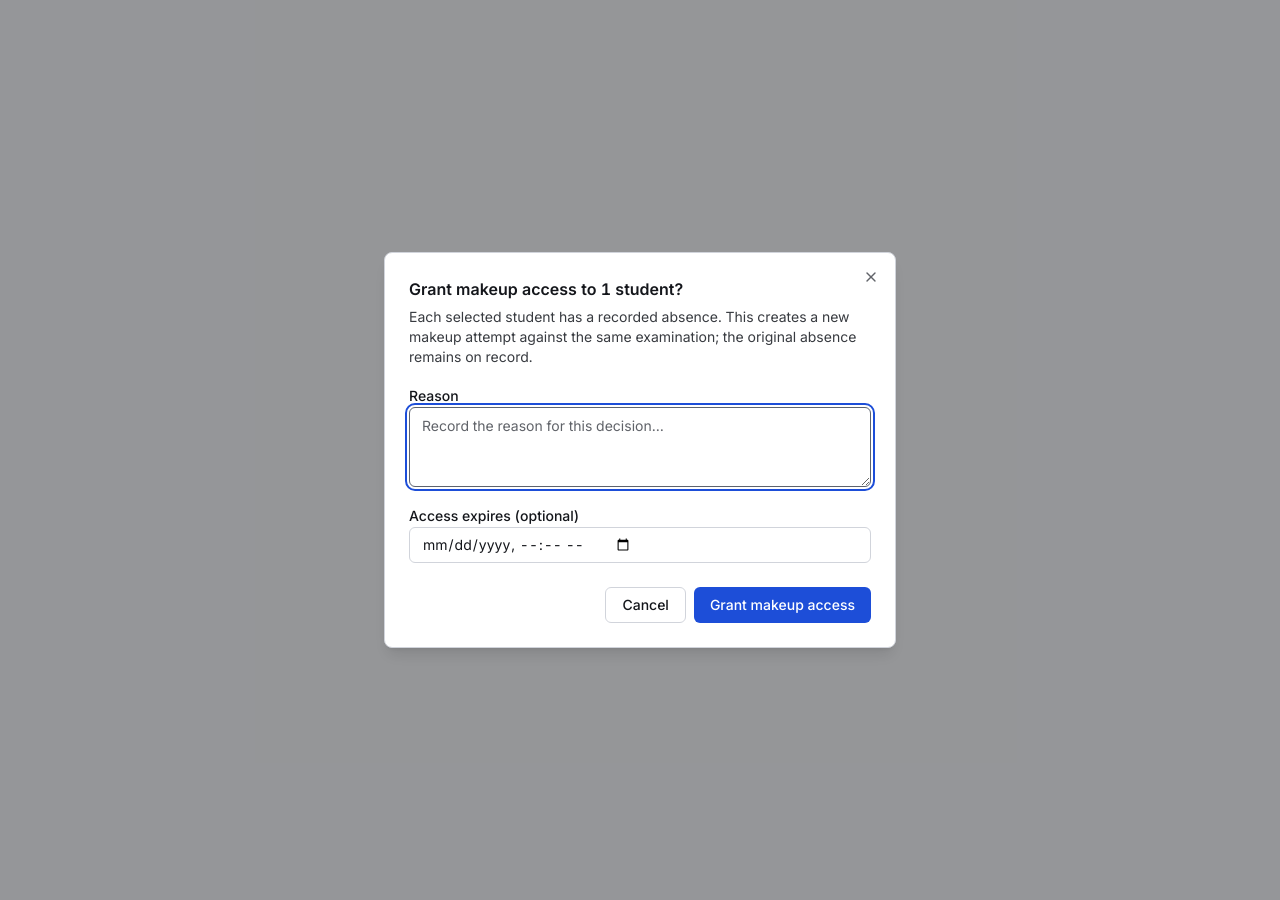
Test: F16 attempt-administration dialogs › rejects an expiry timestamp that has already passed
The width and height of the screenshot is (1280, 900).
In the text box labelled "Reason": (640, 447) x1=409 y1=407 x2=871 y2=487, type "Medical absence"
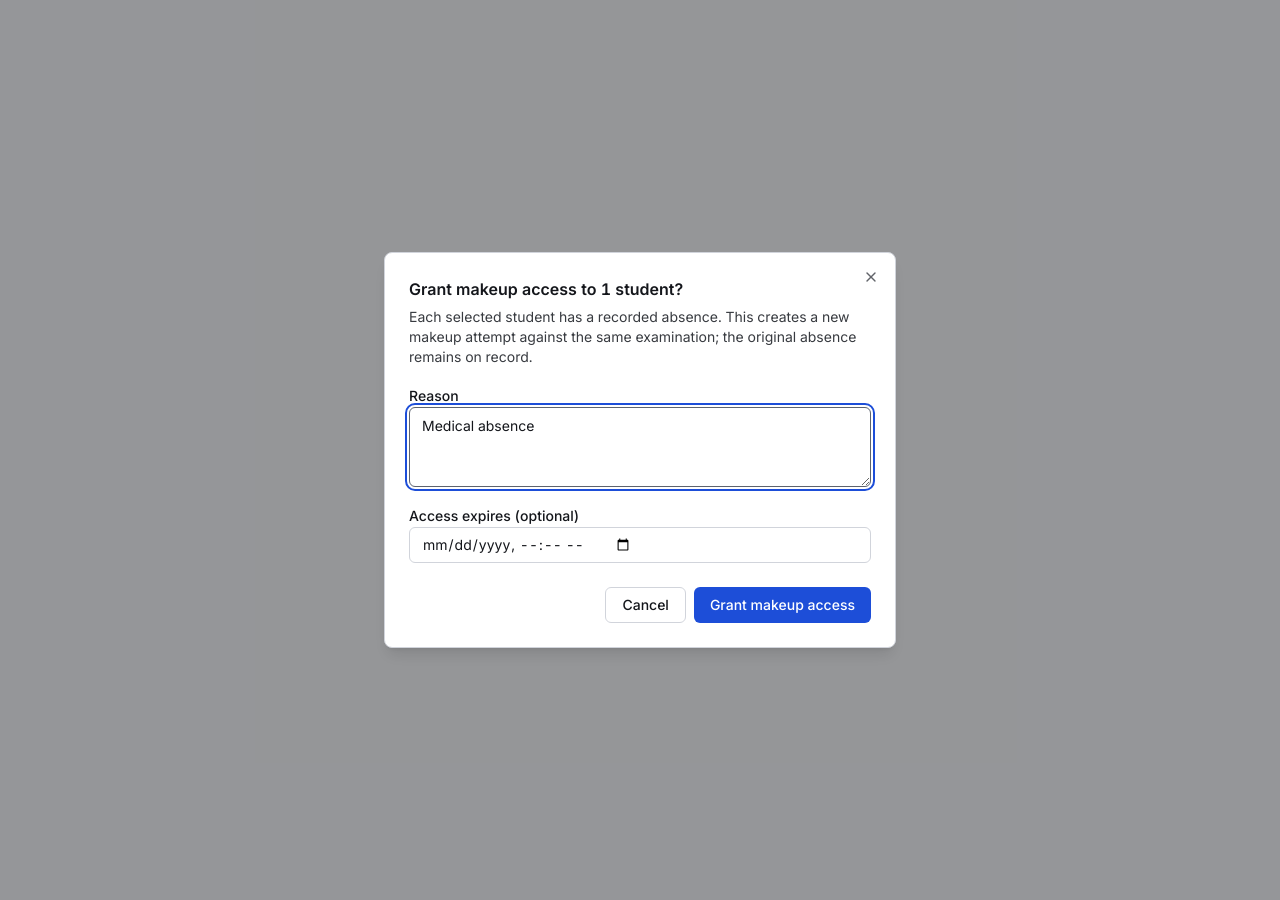
In the field labelled "Access expires (optional)": (640, 545) x1=409 y1=527 x2=871 y2=563, type "2020-01-01T09:00"
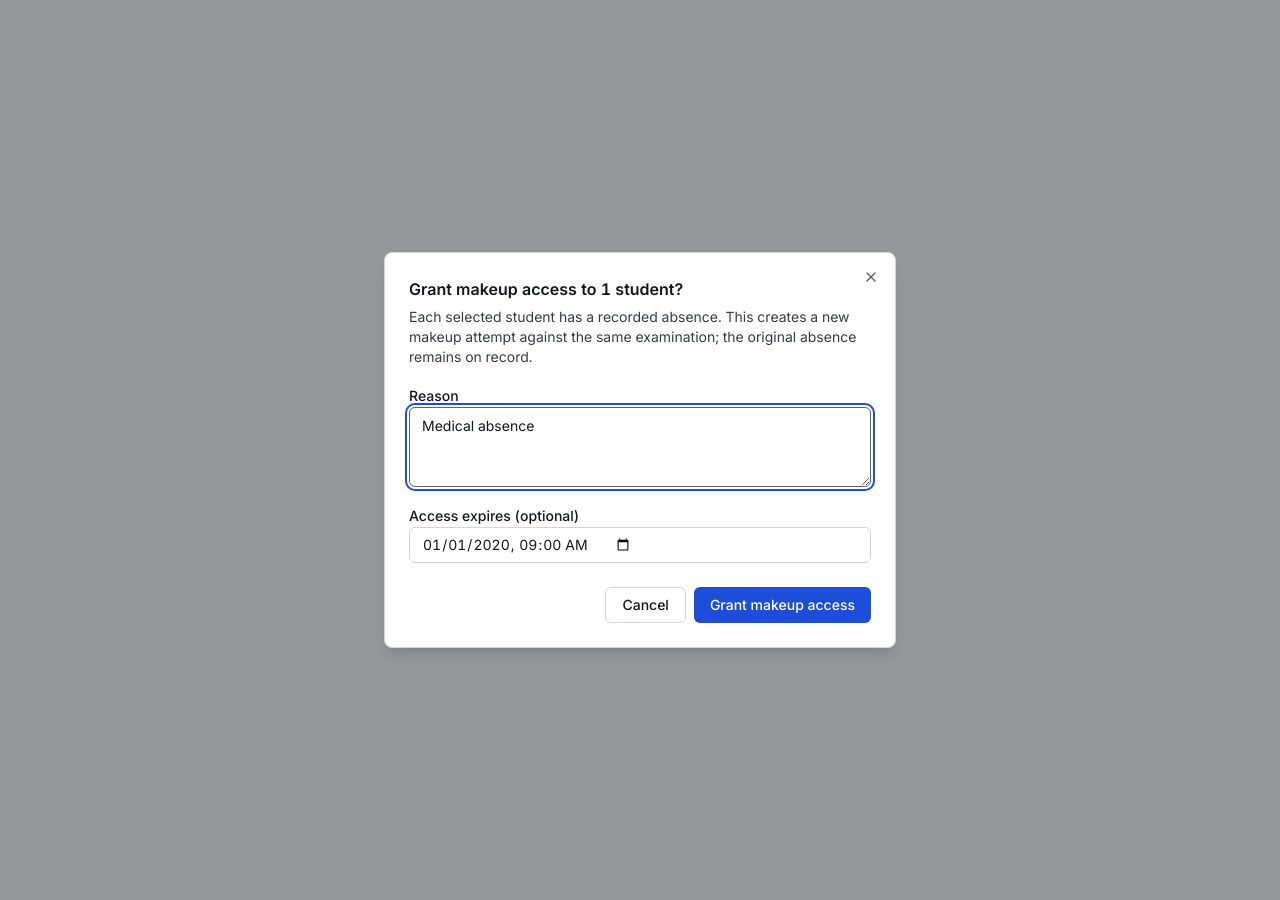
Click the button "Grant makeup access": (782, 605) x1=694 y1=587 x2=871 y2=623
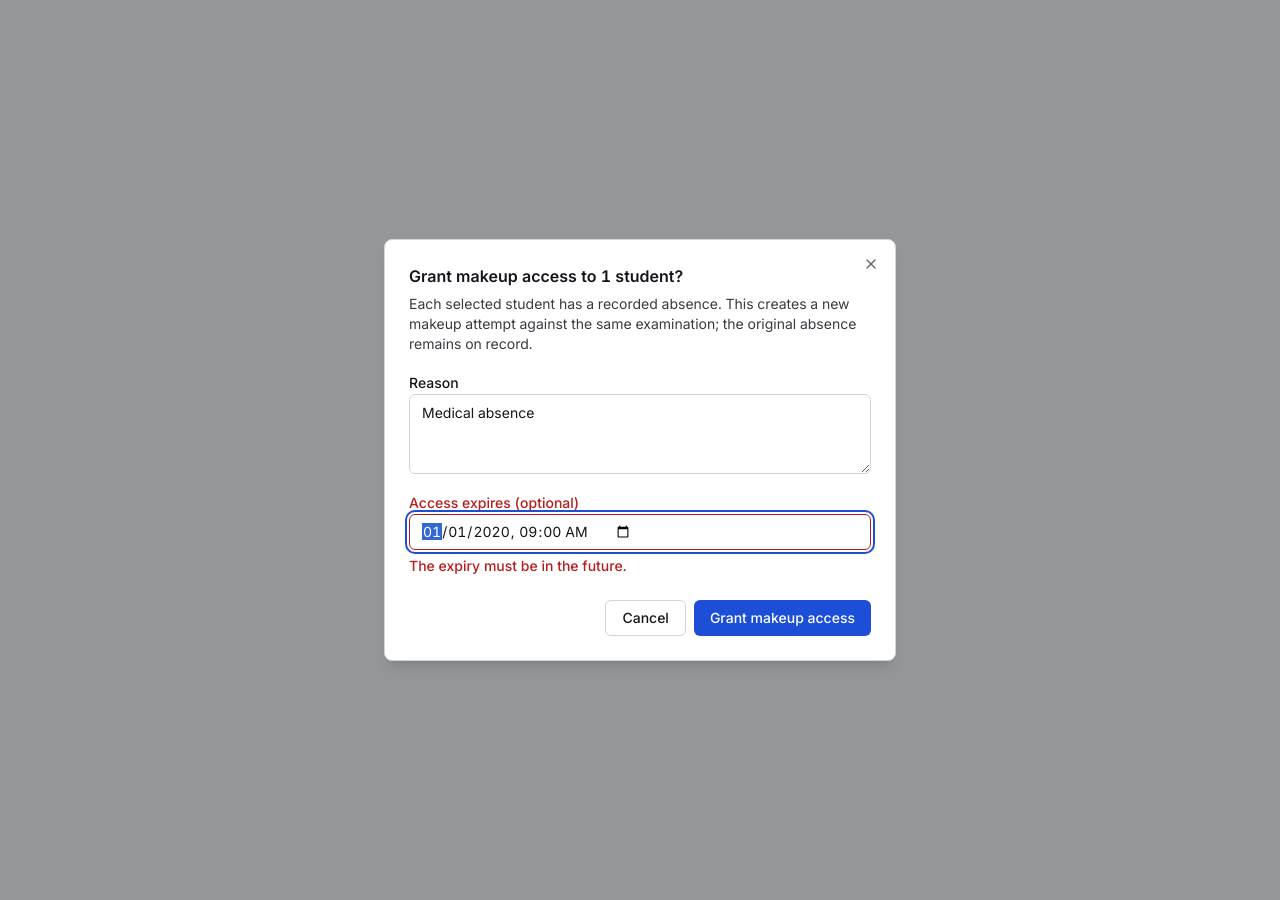
Now the text "The expiry must be in the future." is shown, box x1=409 y1=557 x2=626 y2=574
